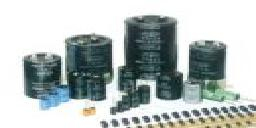Electrolytic Capacitor: (122, 9, 183, 85), (61, 32, 121, 81), (188, 39, 231, 82)
